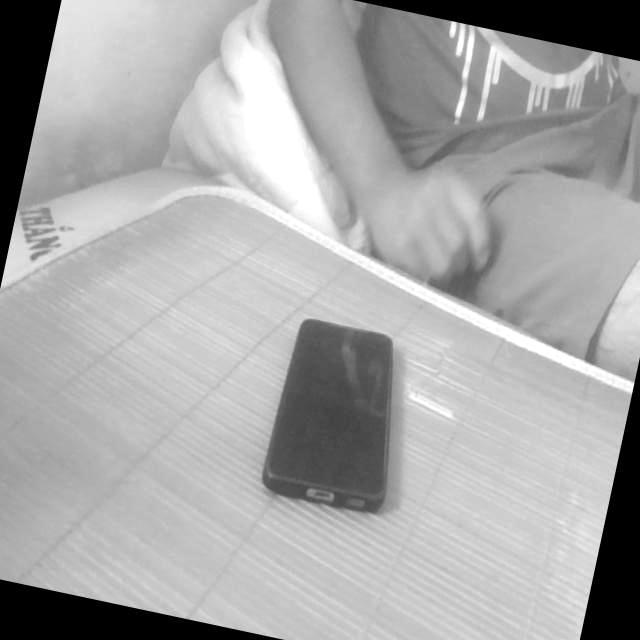phone: (240, 280, 438, 544)
